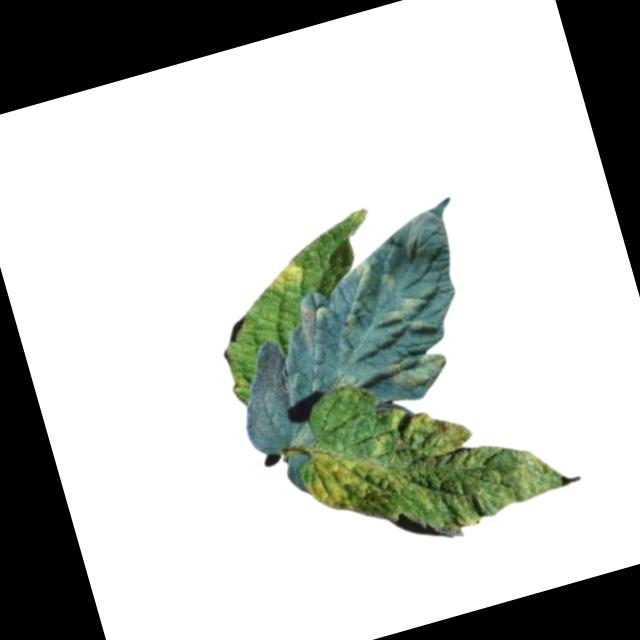Leaf_Mold: (289, 366, 571, 571), (384, 342, 453, 394), (375, 292, 435, 344), (255, 255, 308, 297), (293, 301, 335, 347)
